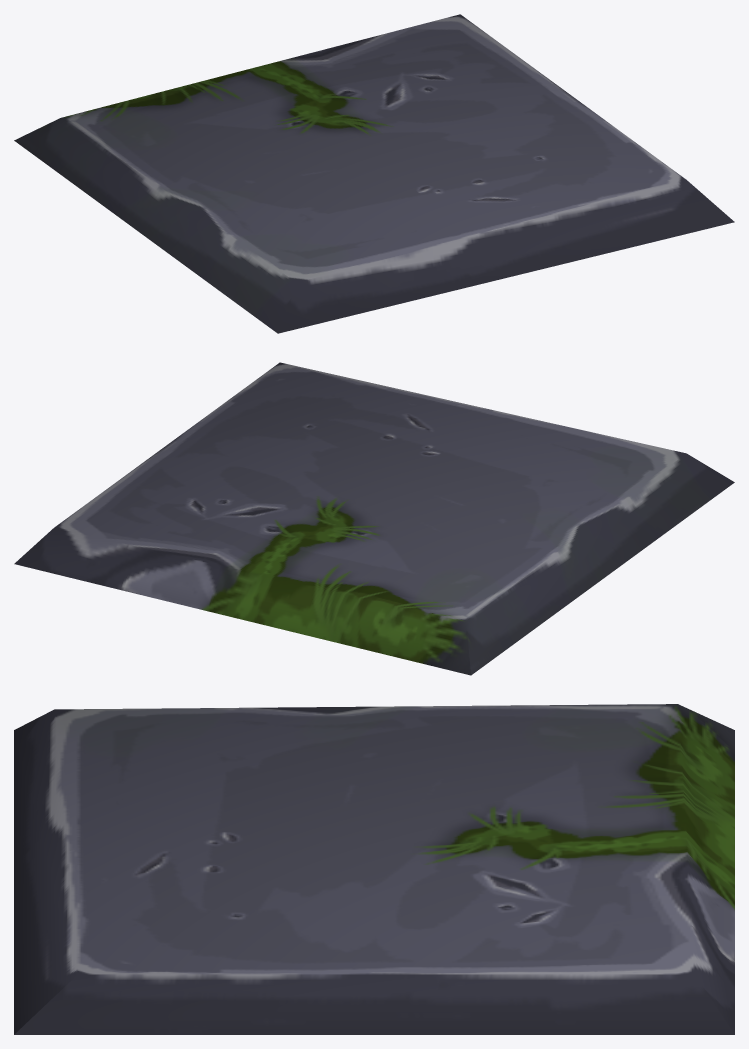
Rendered from MOD_Floor_01_O_singlestone_1.fbx.
3 views of the same model, one above another, from view 1: azimuth 30°, elevation 25°; view 2: azimuth 150°, elevation 25°; view 3: azimuth 270°, elevation 25° (orthographic). The views are drawn at different scales.
Parts seen in each view (by area): view 1: MOD_Floor_01_O_singlestone_1; view 2: MOD_Floor_01_O_singlestone_1; view 3: MOD_Floor_01_O_singlestone_1.
Part boxes in pixels (x1=…): MOD_Floor_01_O_singlestone_1: x1=14, y1=14, x2=734, y2=333; MOD_Floor_01_O_singlestone_1: x1=14, y1=362, x2=734, y2=675; MOD_Floor_01_O_singlestone_1: x1=14, y1=704, x2=734, y2=1034.
Bounding box in the file's own units: 100 × 6.61 × 100.
